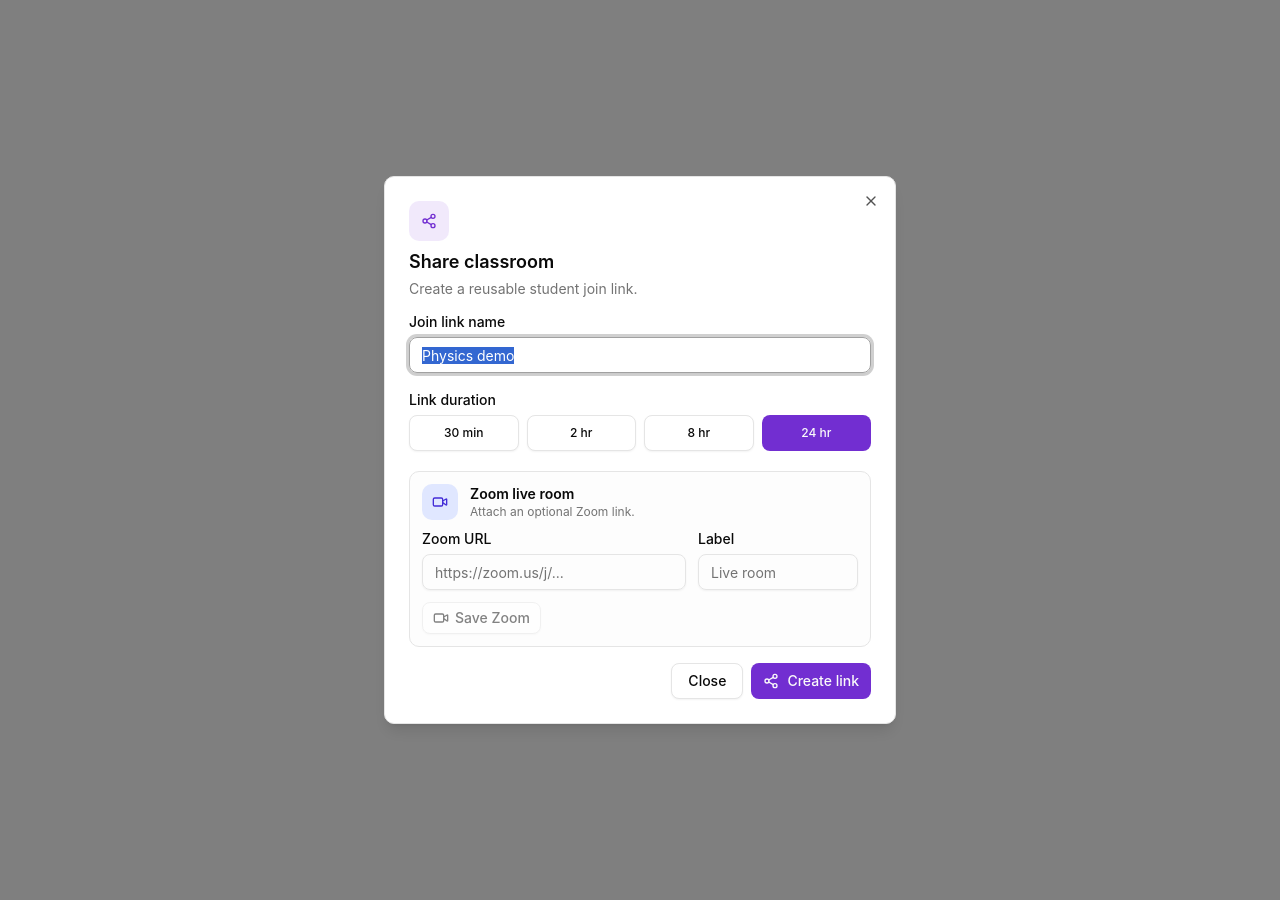
it: ClassroomShareDialog › shows manual copy fallback when clipboard access fails
The image size is (1280, 900).
What coordinates should you click on to do the following:
click the button "Create link"
I would click on:
 (811, 681)
Its box is top-left (751, 663), bottom-right (871, 699).
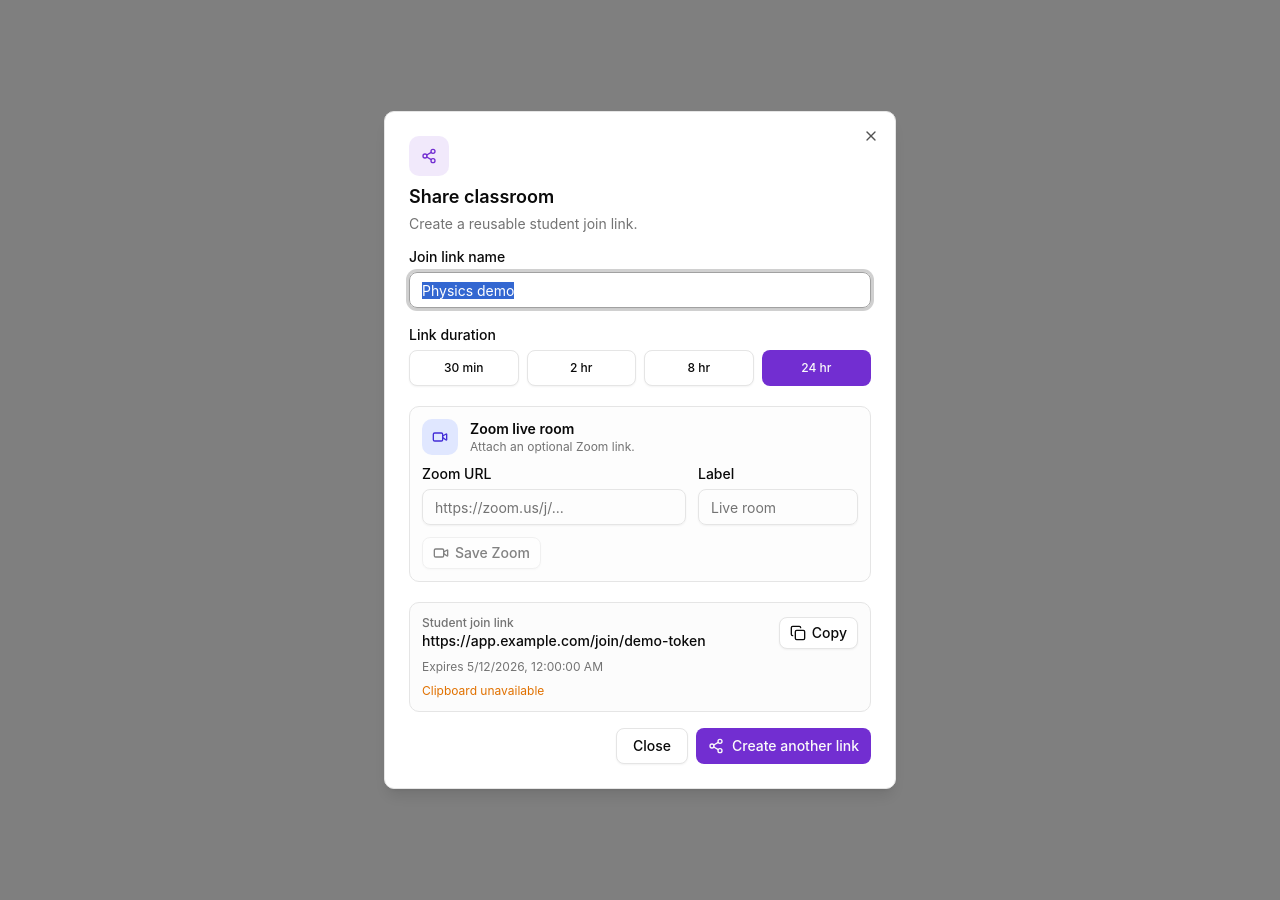
expect the text "Clipboard unavailable" is shown: met, box top-left (422, 683), bottom-right (544, 698)
